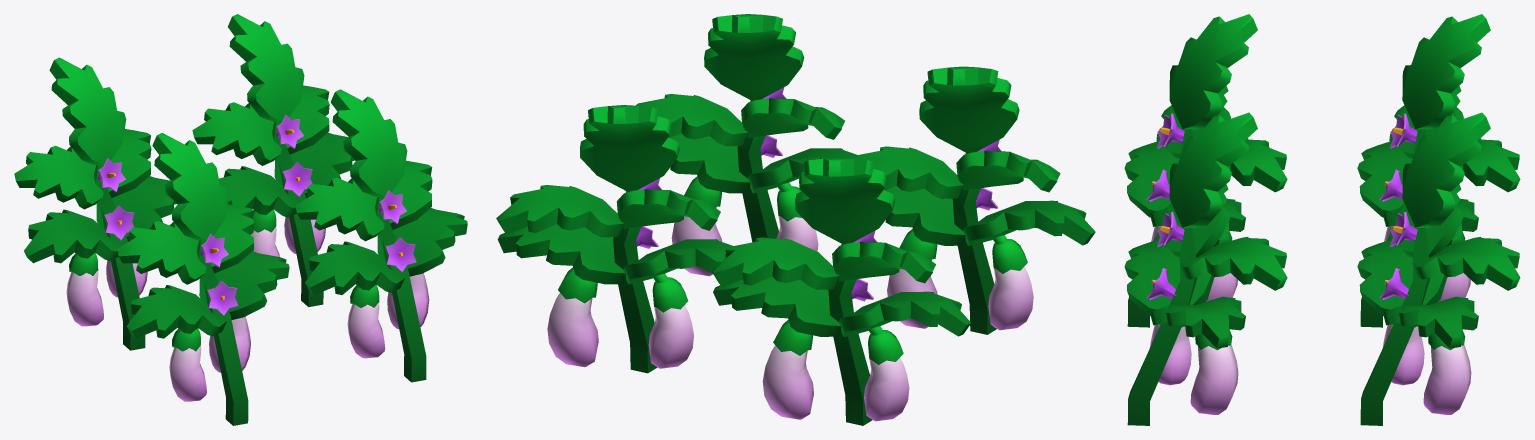
Rendered from Farm_Crop_Eggplant_Step_02.fbx.
3 views of the same model, side by side, from view 1: azimuth 30°, elevation 25°; view 2: azimuth 150°, elevation 25°; view 3: azimuth 270°, elevation 25° (orthographic). The views are drawn at different scales.
Visible parts, largest first — view 1: Farm_Crop_Eggplant_Step_02; view 2: Farm_Crop_Eggplant_Step_02; view 3: Farm_Crop_Eggplant_Step_02.
Boxes of the visible parts, x1,y1,x2,y2 form: Farm_Crop_Eggplant_Step_02: (14, 14, 467, 425); Farm_Crop_Eggplant_Step_02: (496, 14, 1095, 425); Farm_Crop_Eggplant_Step_02: (1124, 14, 1520, 425).
Bounding box in the file's own units: 203 × 138 × 170.
